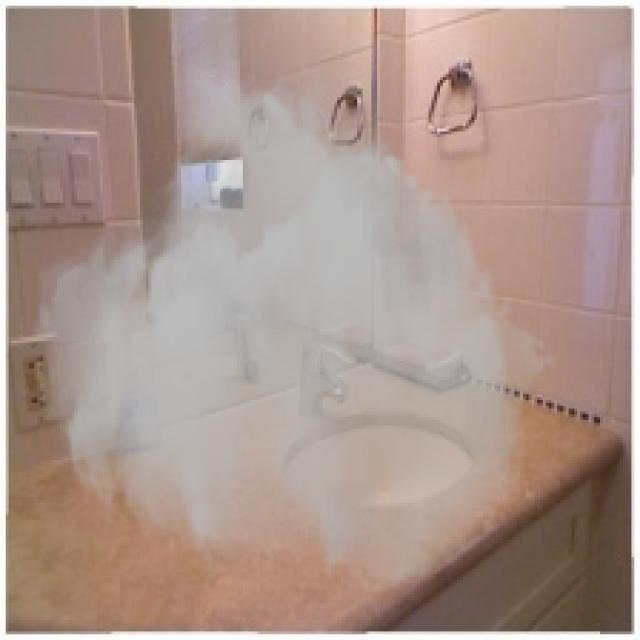smoke: (29, 52, 557, 597)
